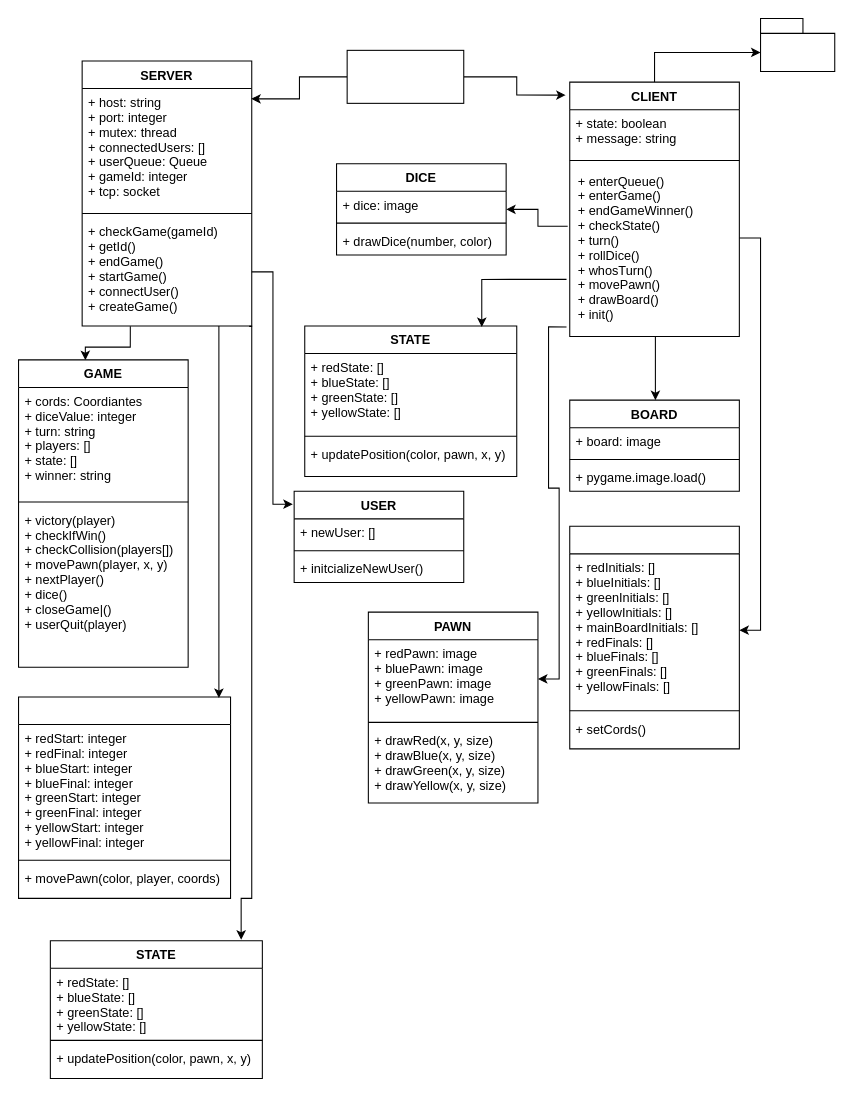
This 853x1100 diagram has some shape labels left out. The box of each missing label's shape, as (x1, y1, x2, y2) in pixels:
COORDINATES: (569, 525, 739, 749)
IMAGES: (759, 17, 835, 72)
LUDO GAME: (346, 49, 464, 103)
MOVES: (17, 696, 231, 898)
